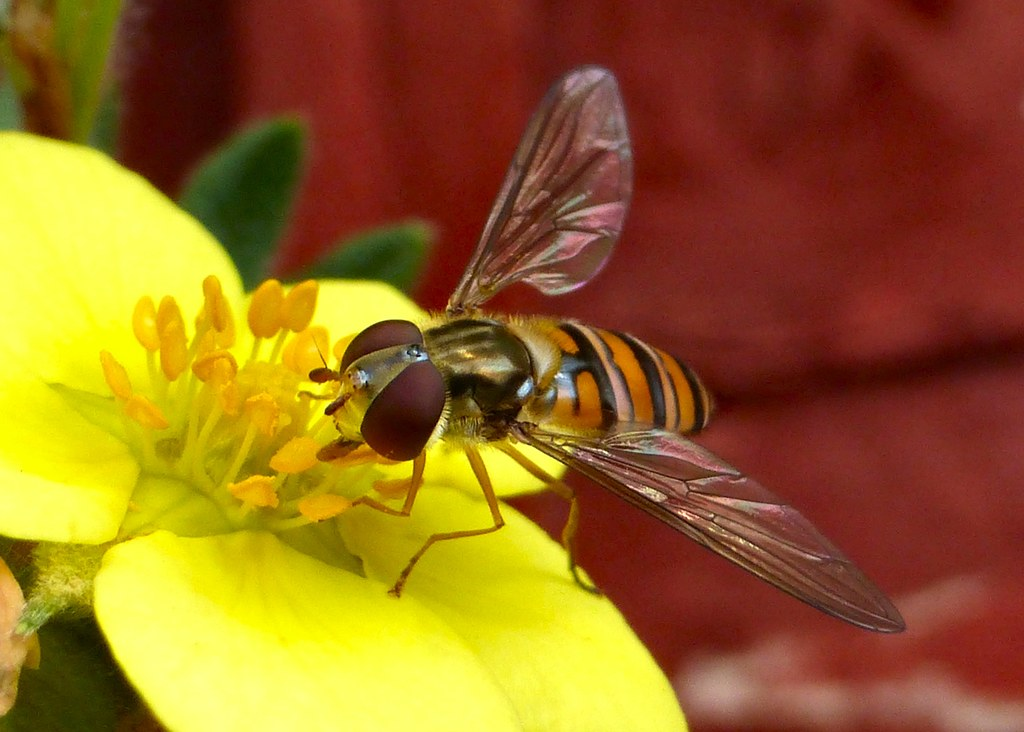bee: (308, 86, 767, 690)
insect: (296, 49, 890, 671)
